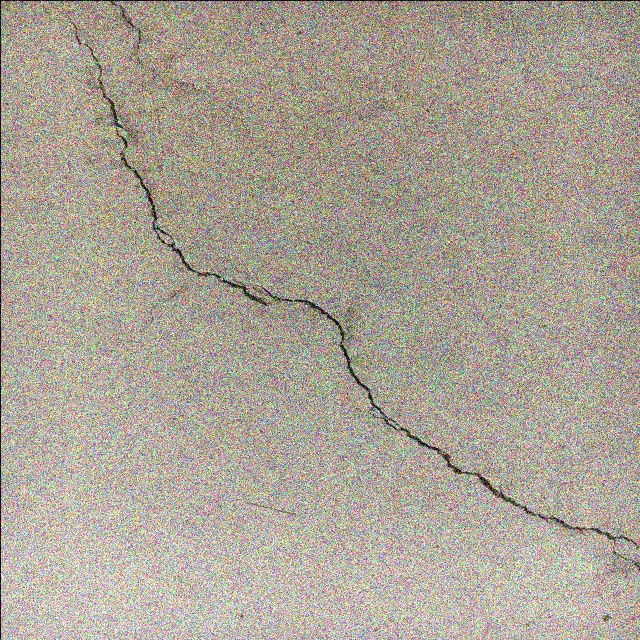SurfaceCrack: (5, 1, 640, 638)
